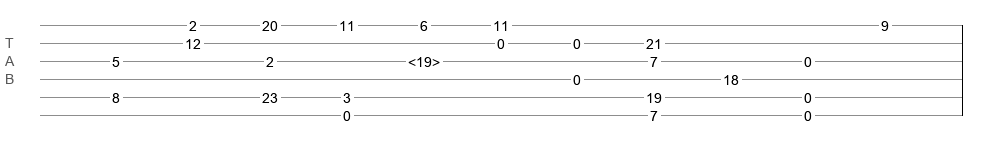0: (343, 108, 351, 118), (497, 36, 505, 46), (573, 72, 581, 82), (573, 36, 581, 46), (804, 90, 812, 100), (804, 54, 812, 64), (804, 108, 812, 118)
11: (339, 18, 355, 28), (493, 18, 509, 28)
12: (185, 36, 201, 46)
18: (723, 72, 739, 82)
19: (646, 90, 662, 100)
2: (189, 18, 197, 28), (266, 54, 274, 64)
20: (262, 18, 278, 28)
21: (646, 36, 662, 46)
23: (262, 90, 278, 100)
3: (343, 90, 351, 100)
5: (112, 54, 120, 64)
6: (420, 18, 428, 28)
7: (650, 108, 658, 118), (650, 54, 658, 64)
8: (112, 90, 120, 100)
9: (881, 18, 889, 28)
harmonic: (408, 54, 440, 64)
